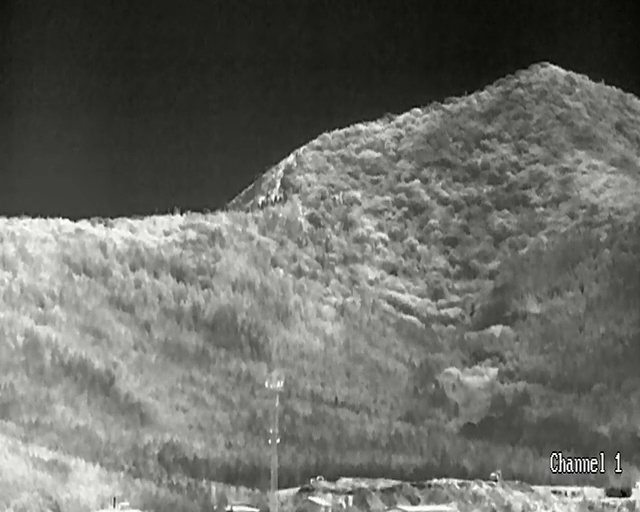uav: (526, 300, 539, 312)
